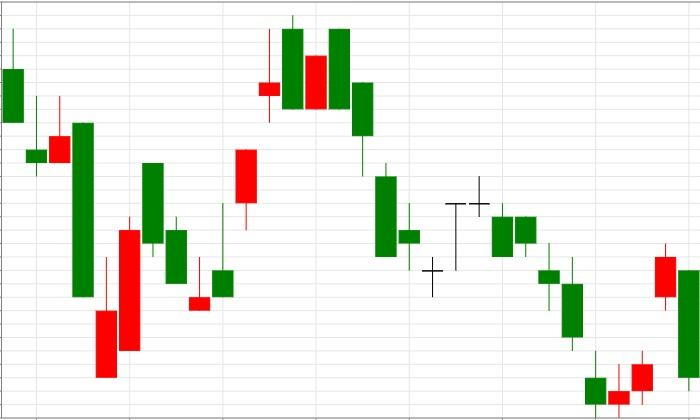bearish_engulfing_fall: (189, 15, 351, 311)
inverse_hammer_rise: (142, 162, 211, 311)
three_white_soldiers_rise: (468, 175, 677, 418)
